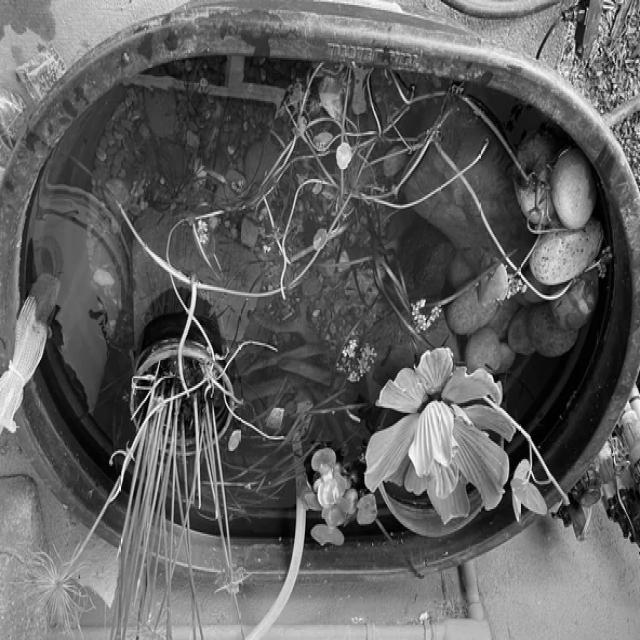Breeding Place: (0, 13, 640, 584)
